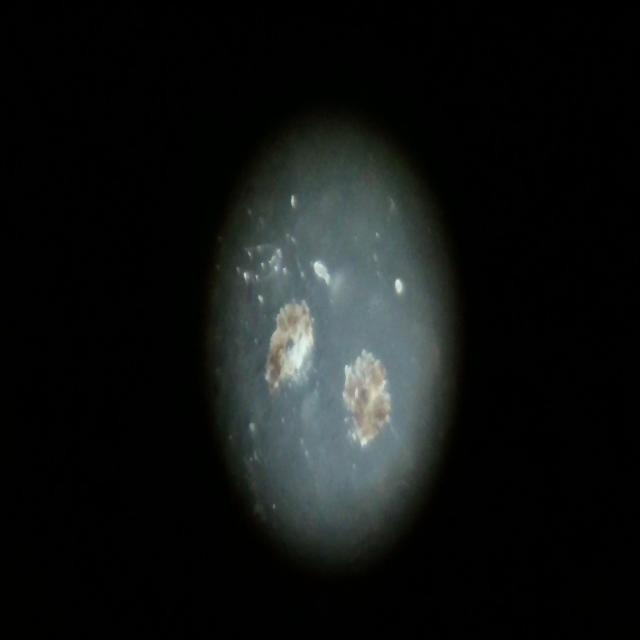alexandrium: (255, 268, 318, 402), (340, 342, 394, 452)
